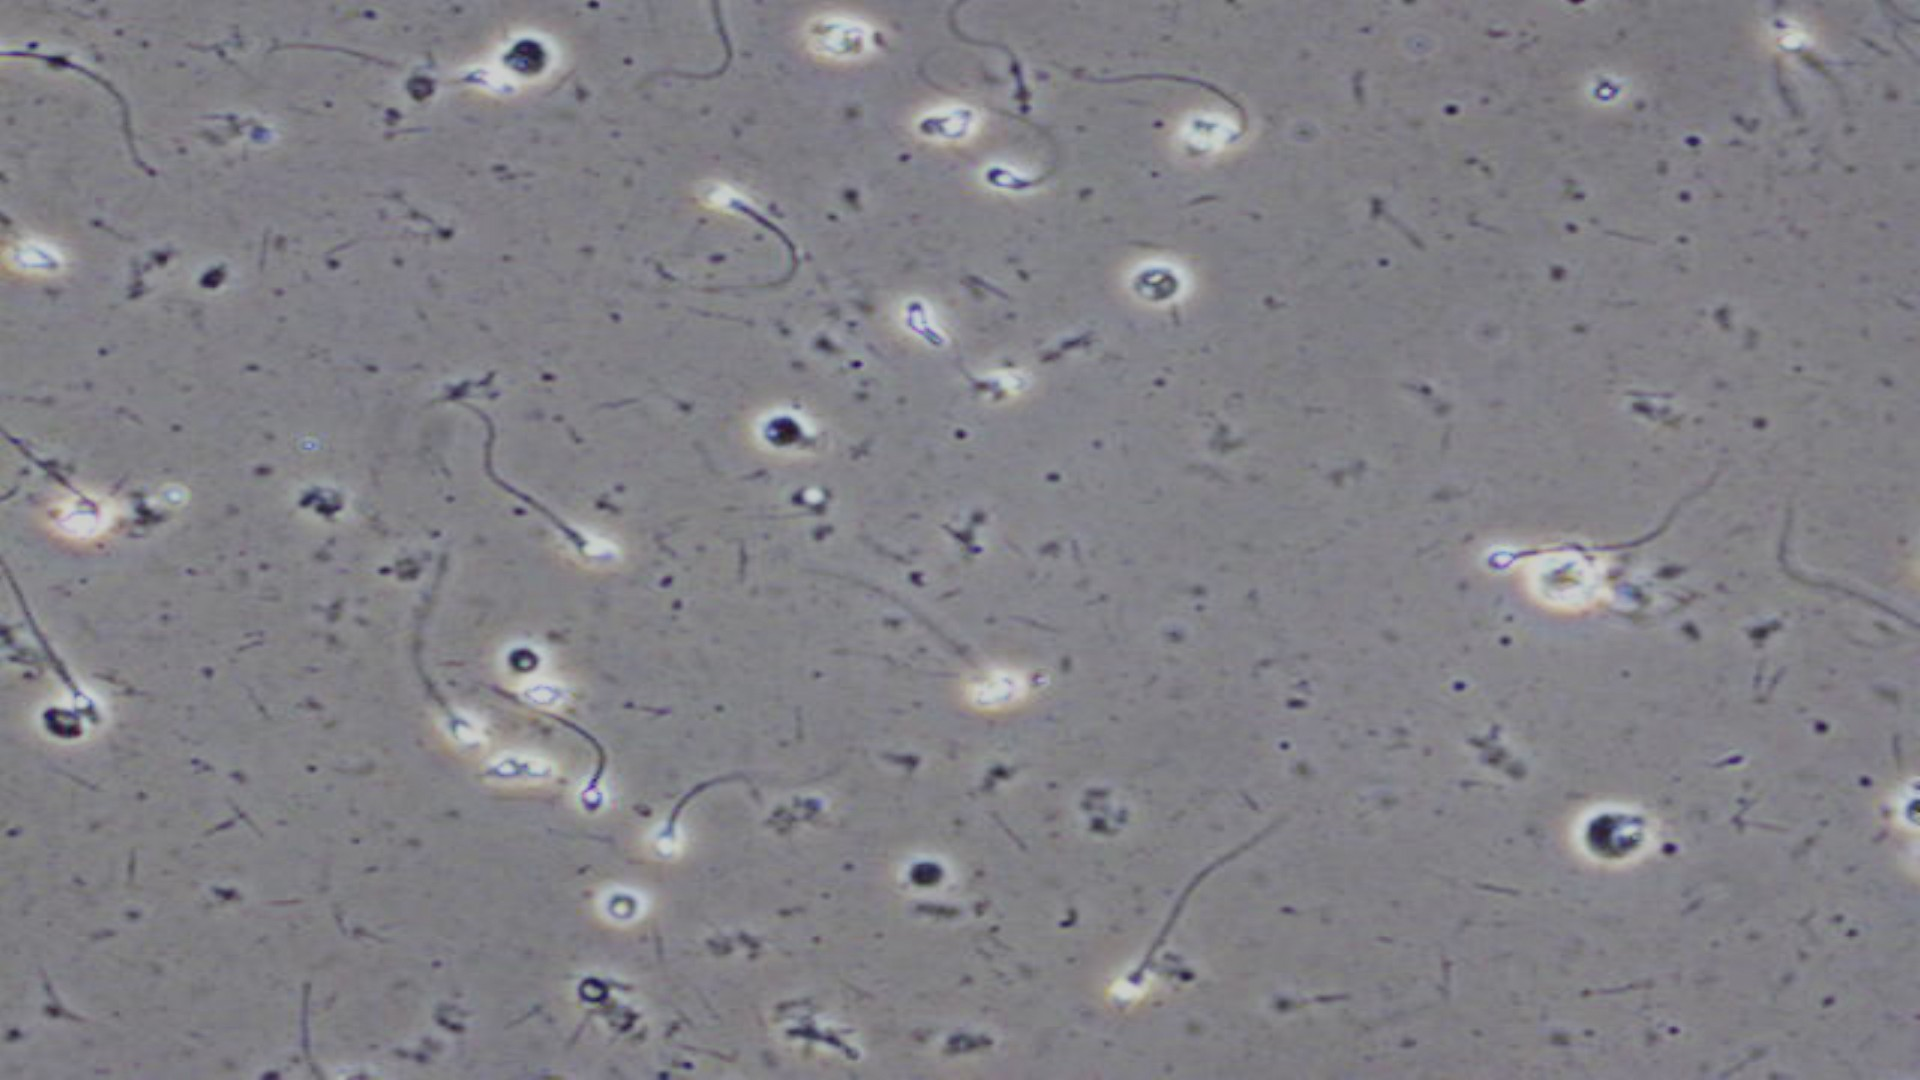sperm: (446, 436, 615, 575), (684, 179, 814, 293), (1458, 509, 1607, 595), (1095, 924, 1195, 1023), (7, 618, 102, 713), (521, 732, 622, 818), (644, 785, 742, 870), (960, 132, 1079, 202), (1172, 91, 1278, 157), (378, 53, 524, 98)
